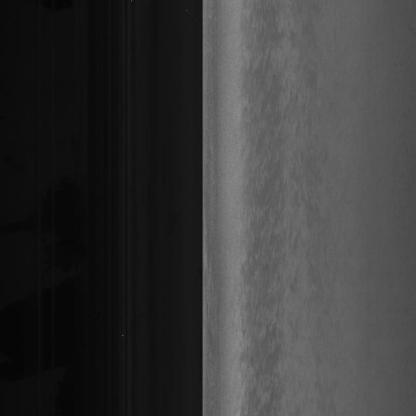silk_spot: (251, 149, 316, 266)
